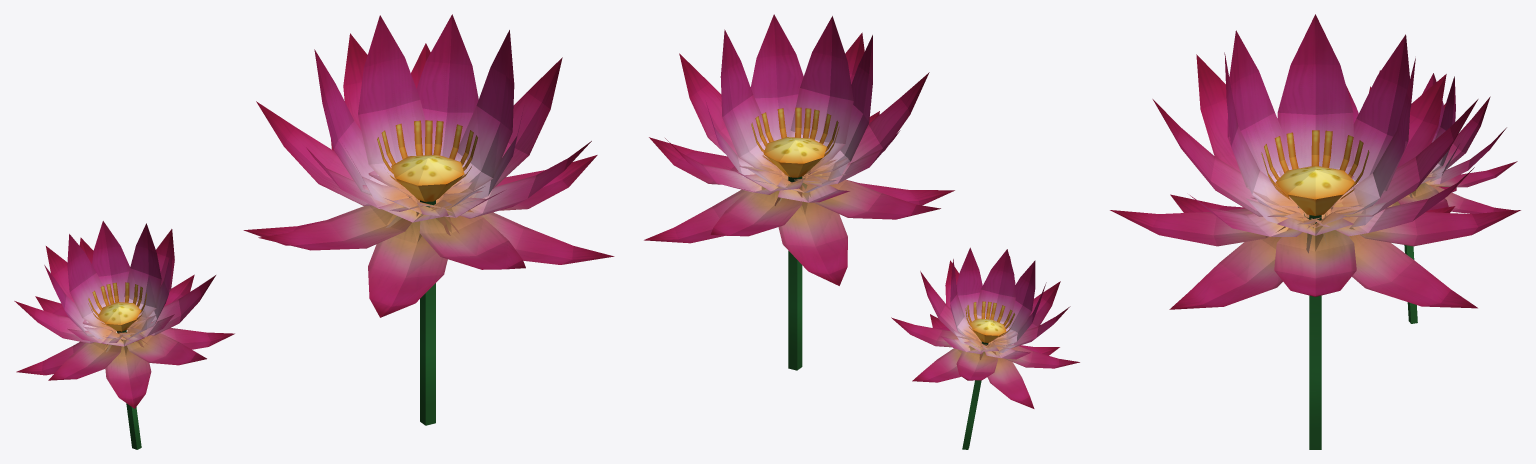
Rendered from lotus.glb.
The picture shows the model from 3 angles, left to right: view 1: azimuth 30°, elevation 25°; view 2: azimuth 150°, elevation 25°; view 3: azimuth 270°, elevation 25°; orthographic projection. The views are drawn at different scales.
Bounding box in the file's own units: 0.2733 × 0.1872 × 0.1769.
1 material, 1 textured.
